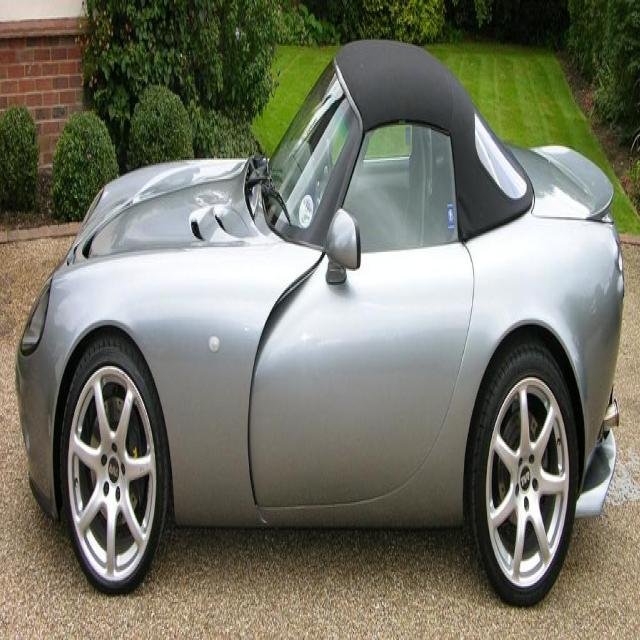car: (21, 62, 617, 594)
